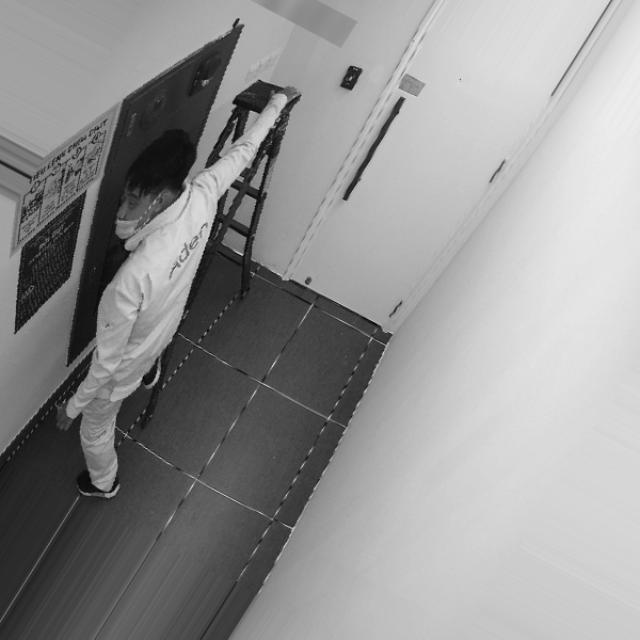hairnet: (114, 190, 154, 240)
